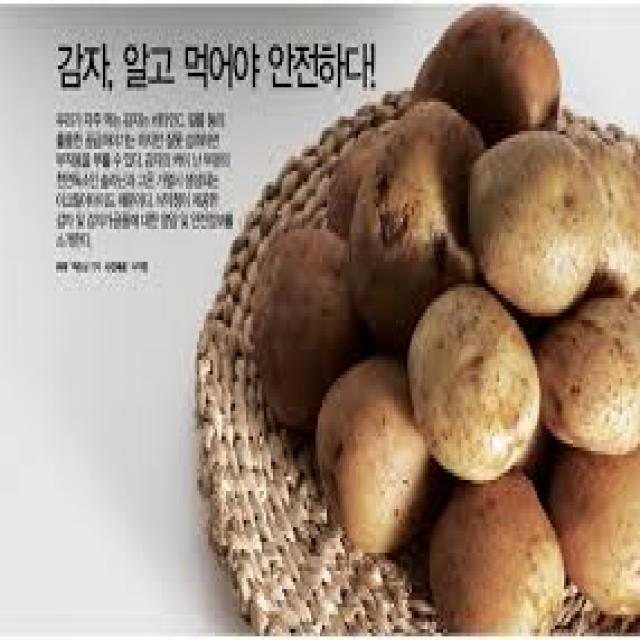potato: (410, 287, 542, 484), (470, 131, 609, 315), (318, 356, 430, 556), (432, 473, 566, 635), (537, 298, 640, 458)
